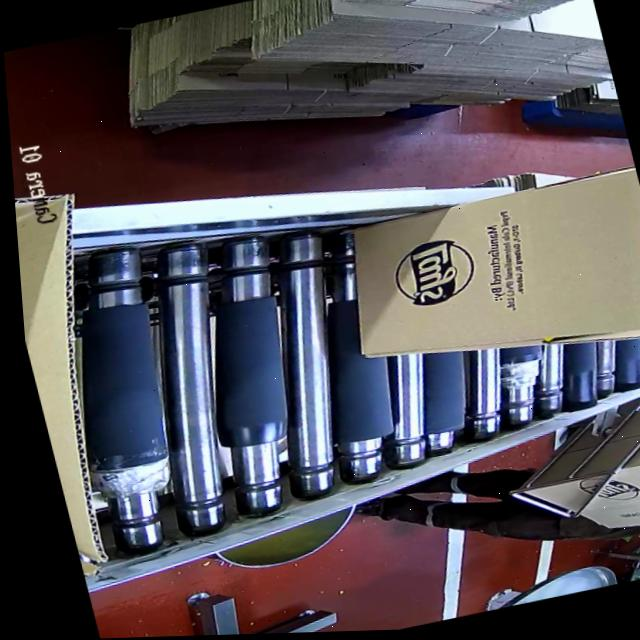SALTED: (620, 182, 640, 314)
